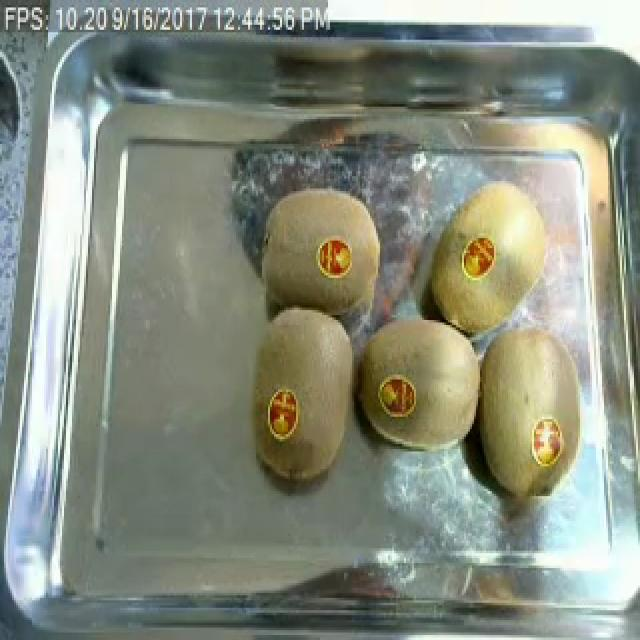Fruit: (418, 163, 562, 350), (464, 310, 598, 494), (248, 300, 368, 489), (352, 305, 484, 462), (250, 179, 386, 290)
